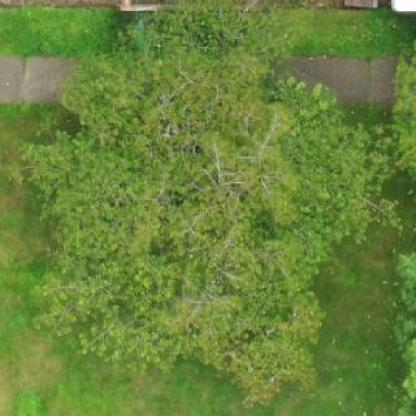Deciduous Tree: (10, 12, 393, 393)
